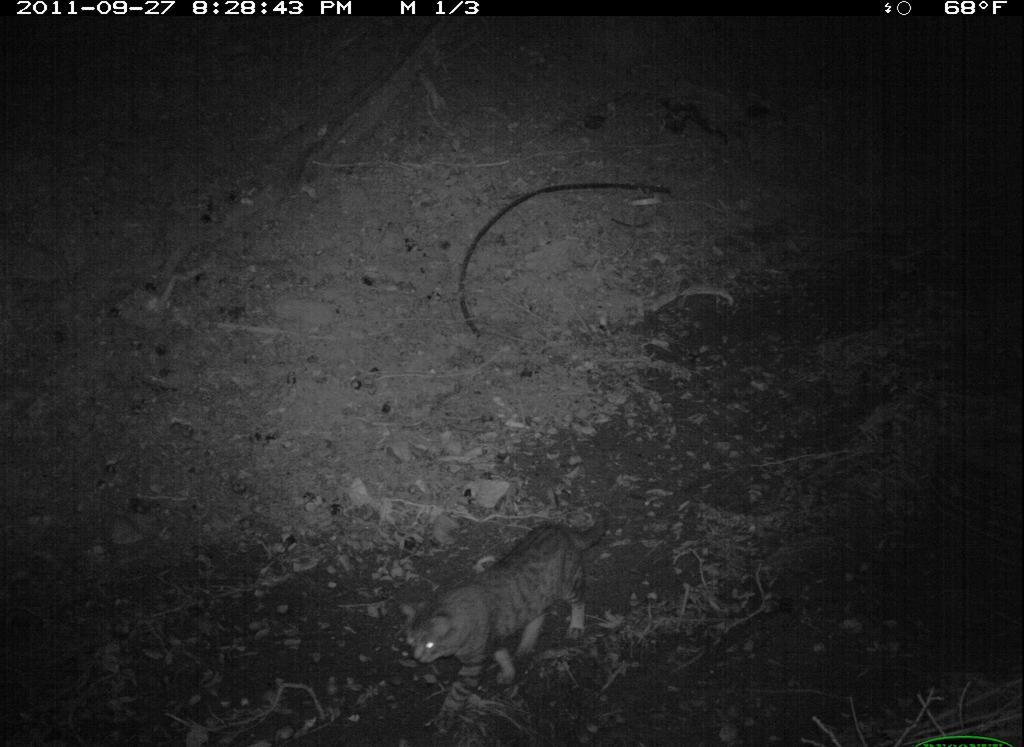cat: (388, 510, 615, 742)
